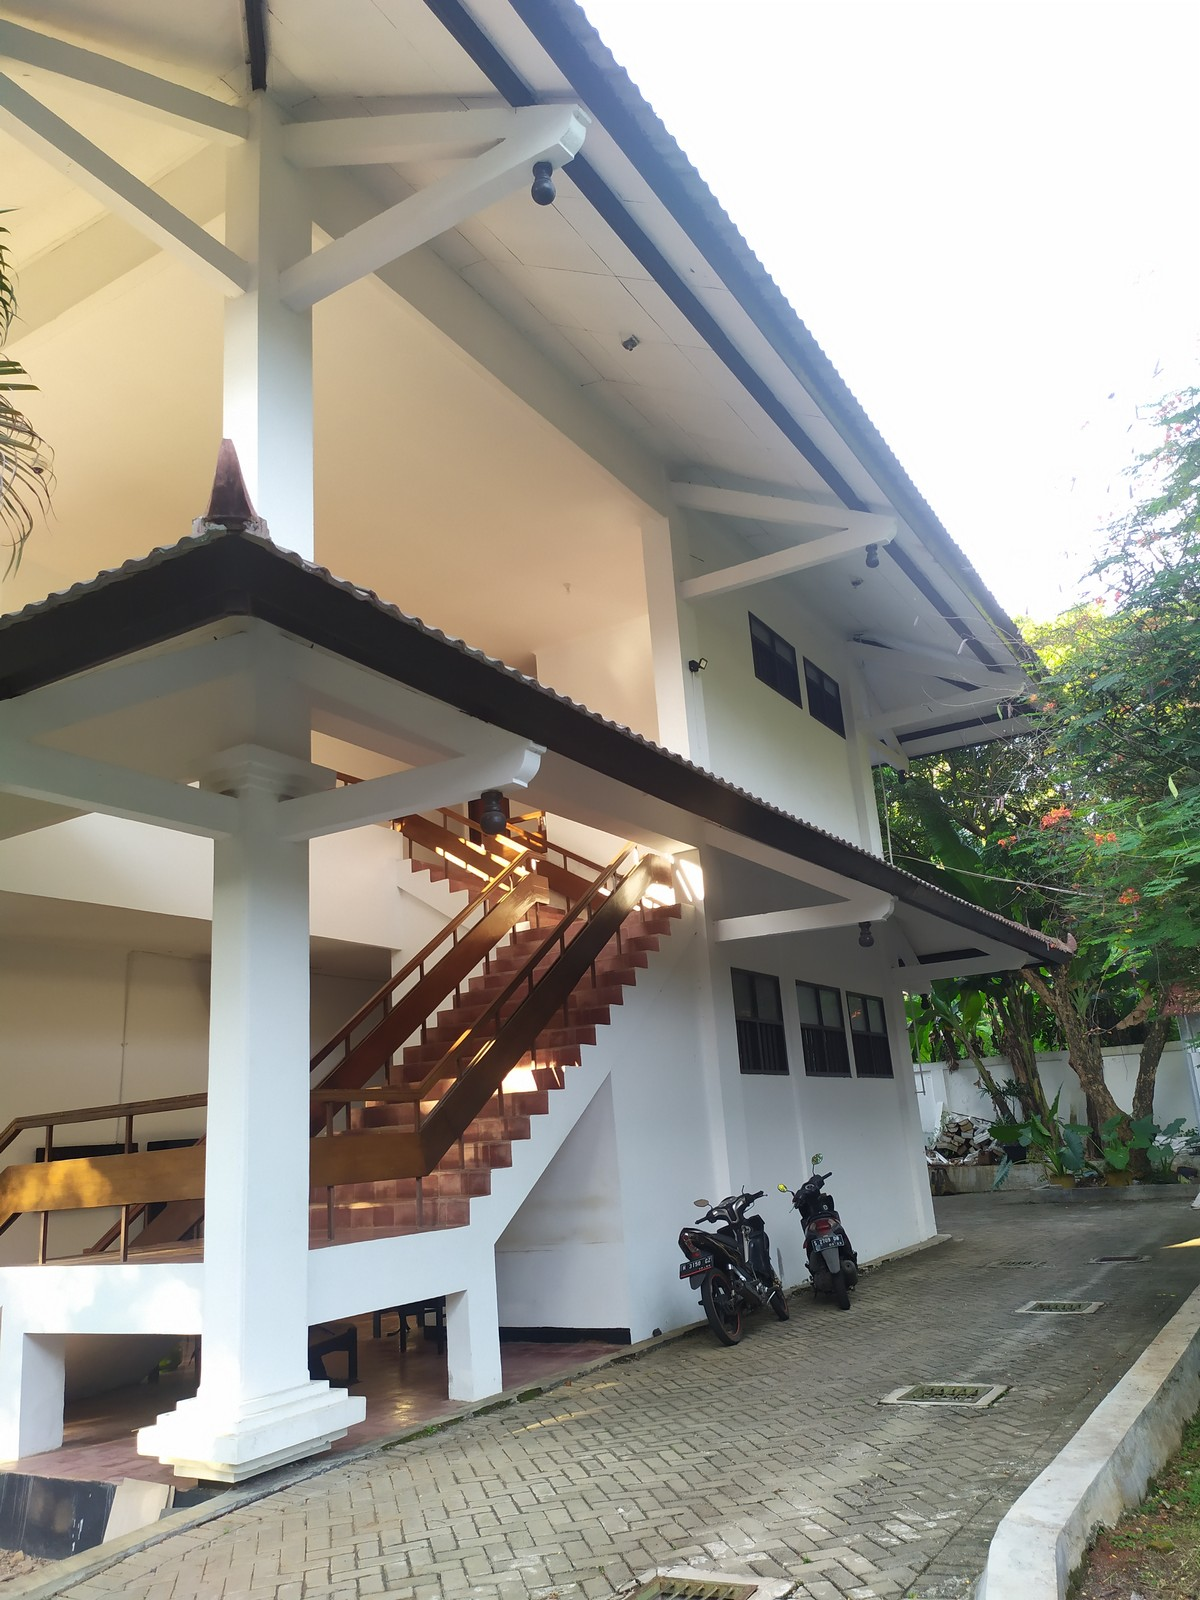concrete beam: (20, 750, 251, 862), (277, 760, 456, 848)
concrete column: (189, 770, 323, 1410), (211, 84, 329, 569), (634, 479, 720, 774)
